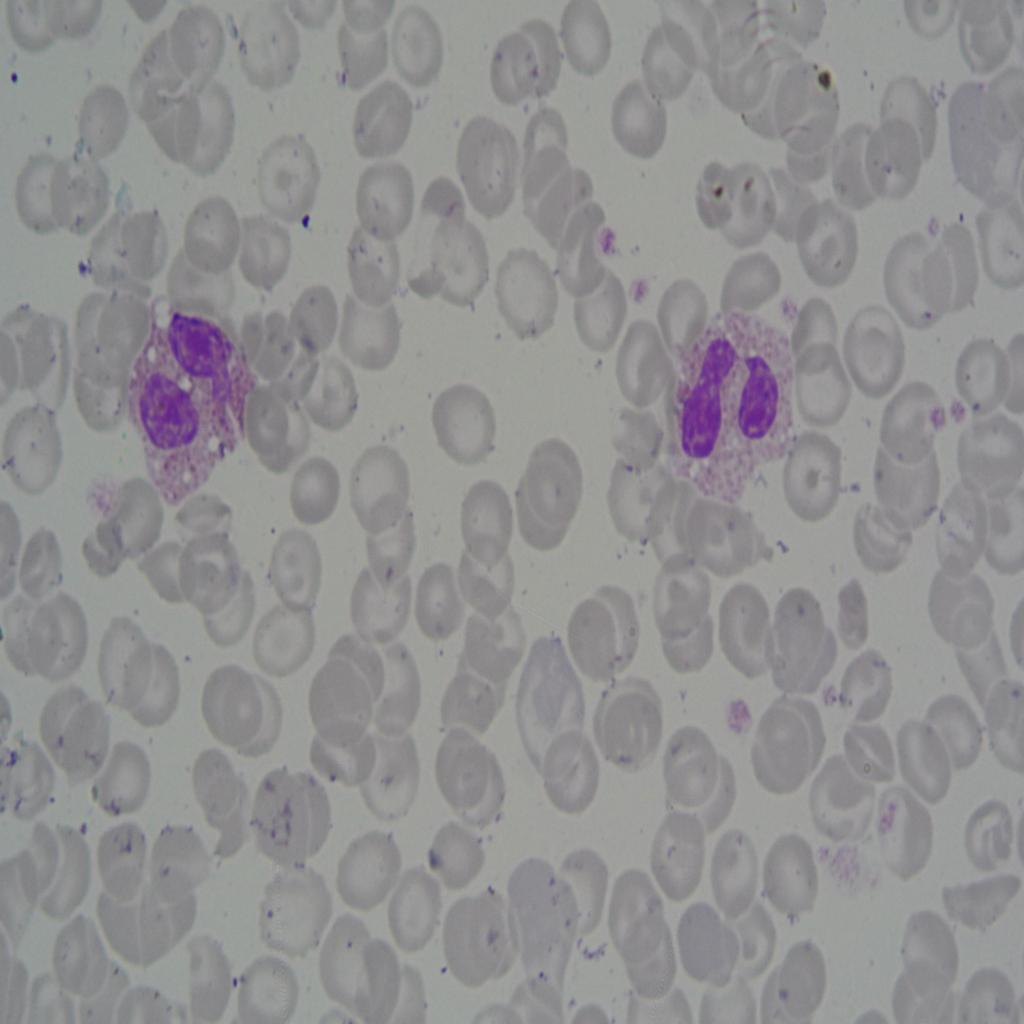Eosinofil: (127, 296, 268, 504)
Neutrofil: (668, 300, 792, 500)
Platelet: (617, 267, 656, 325), (590, 218, 628, 264), (723, 702, 753, 754), (69, 242, 99, 286), (818, 667, 842, 720), (4, 55, 28, 104), (942, 391, 971, 428), (925, 206, 945, 250), (298, 197, 318, 237), (931, 398, 947, 447)
